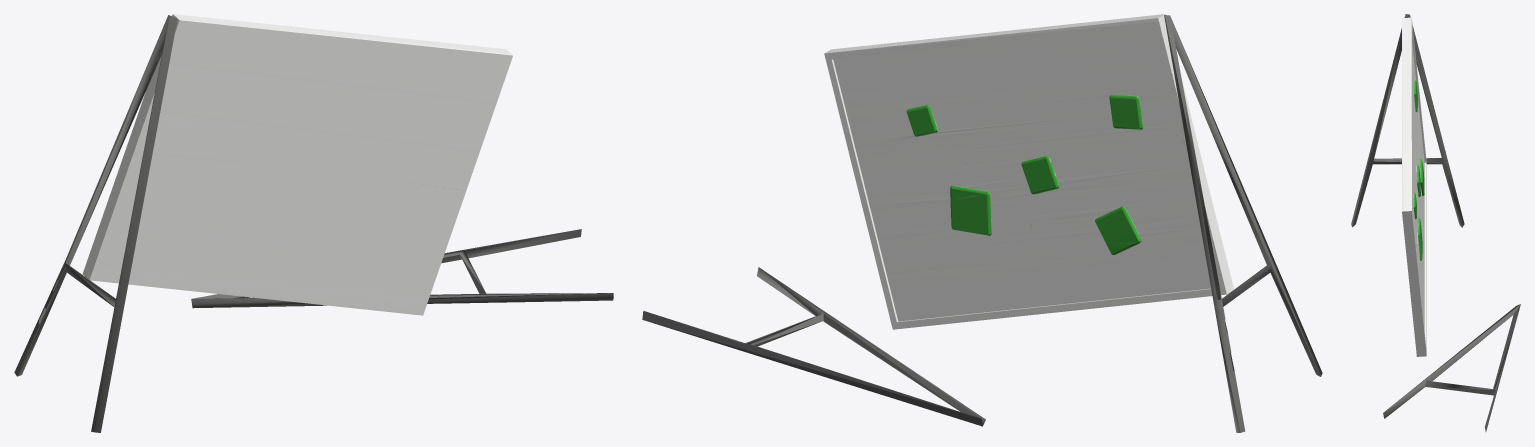
The model's file is whiteboard_kaputt_neu.obj.
3 views of the same model, side by side, from view 1: azimuth 30°, elevation 25°; view 2: azimuth 150°, elevation 25°; view 3: azimuth 270°, elevation 25° (orthographic). The views are drawn at different scales.
Parts seen in each view (by area): view 1: 283575_23_05_25_14_36_28_1, 283575_23_05_25_14_36_28_0; view 2: 283575_23_05_25_14_36_28_1, 283575_23_05_25_14_36_28_0; view 3: 283575_23_05_25_14_36_28_1, 283575_23_05_25_14_36_28_0.
Boxes of the visible parts, box(x1,y1,x2,y2) form: 283575_23_05_25_14_36_28_1: box(82, 14, 512, 315); 283575_23_05_25_14_36_28_0: box(14, 15, 613, 432); 283575_23_05_25_14_36_28_1: box(824, 14, 1233, 329); 283575_23_05_25_14_36_28_0: box(642, 15, 1322, 432); 283575_23_05_25_14_36_28_1: box(1402, 17, 1426, 356); 283575_23_05_25_14_36_28_0: box(1351, 14, 1520, 431).
Bounding box in the file's own units: 9.29 × 5.72 × 3.38.
Materials: 2 (2 with a texture image).
